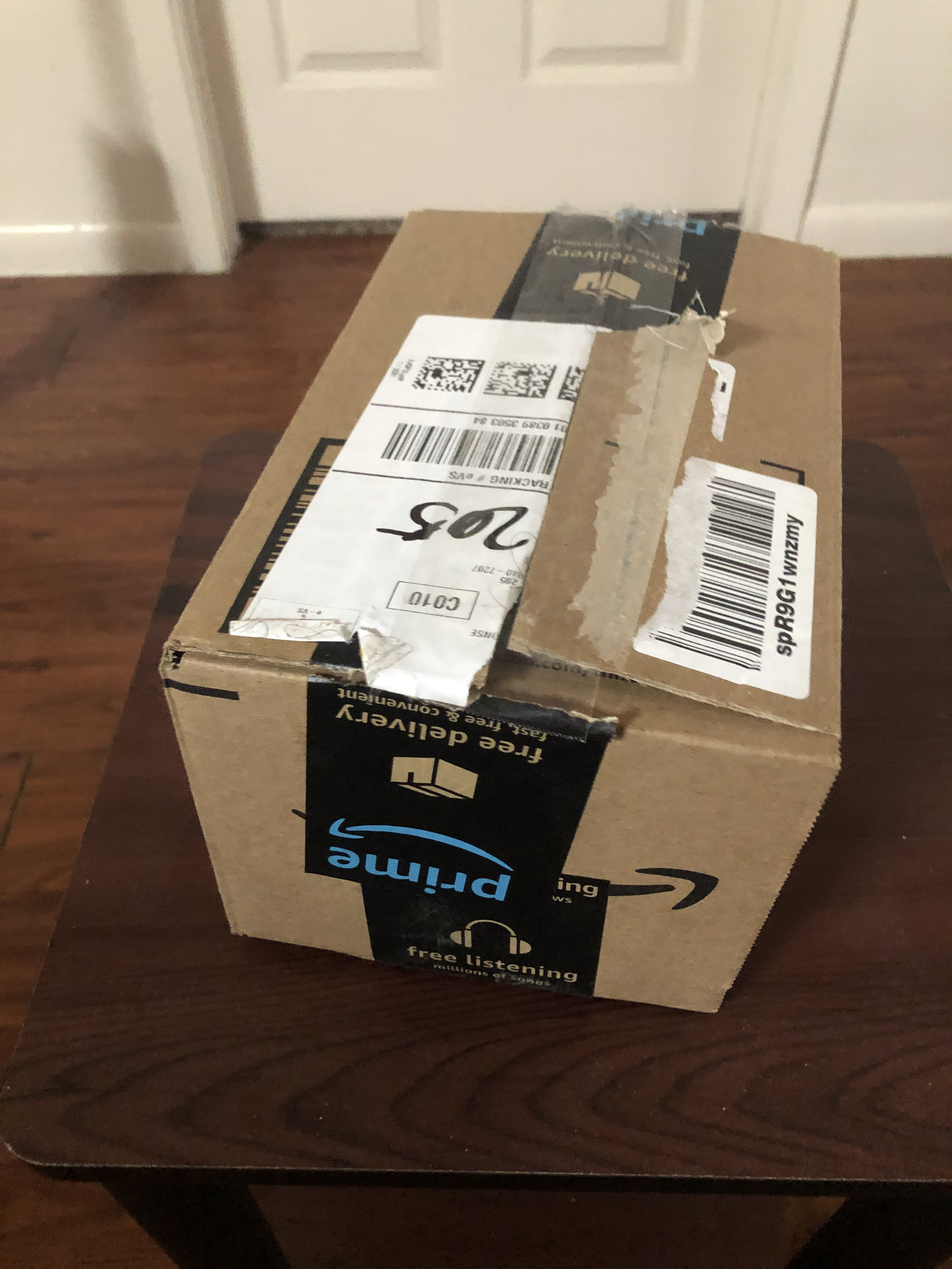package: (147, 193, 864, 1029)
